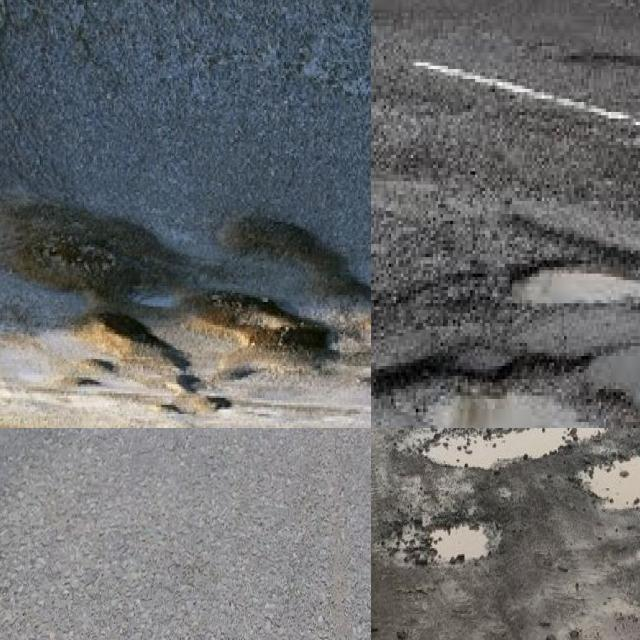Pothole: (10, 207, 191, 304), (75, 314, 232, 414), (374, 369, 640, 428), (214, 216, 371, 313), (183, 293, 339, 379), (219, 215, 371, 298), (515, 274, 640, 307), (589, 457, 640, 511), (218, 365, 256, 380), (75, 378, 102, 386), (359, 376, 371, 385)
